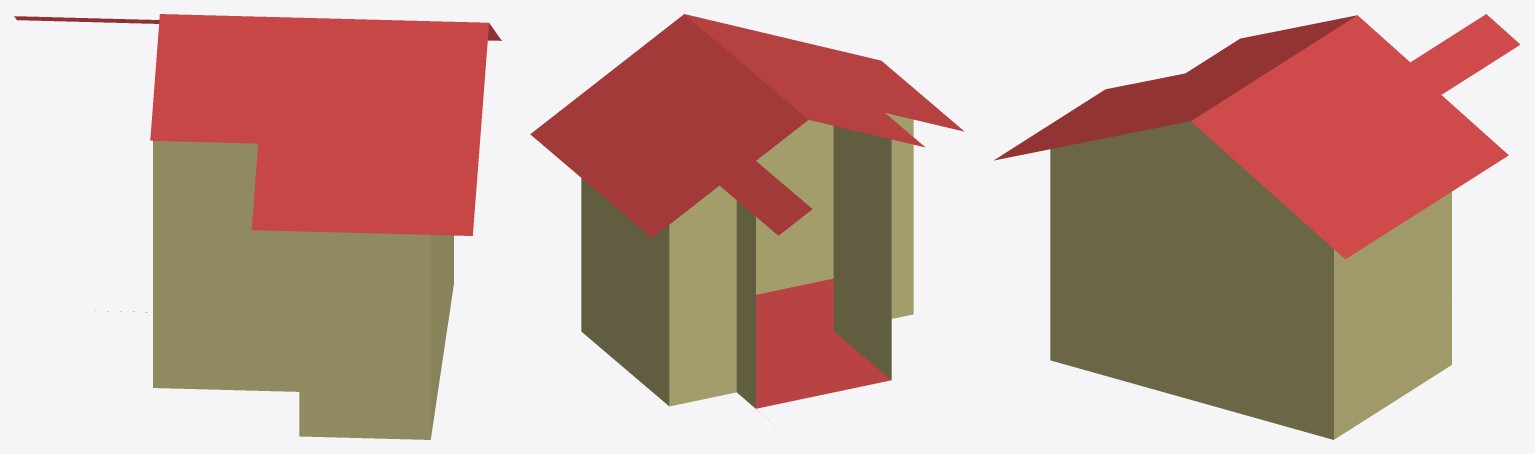
3 renders of one model, left to right at view 1: azimuth 30°, elevation 25°; view 2: azimuth 150°, elevation 25°; view 3: azimuth 270°, elevation 25°, orthographic. The views are drawn at different scales.
Size of the model in its own units: 10.53 by 12.82 by 8.04.
